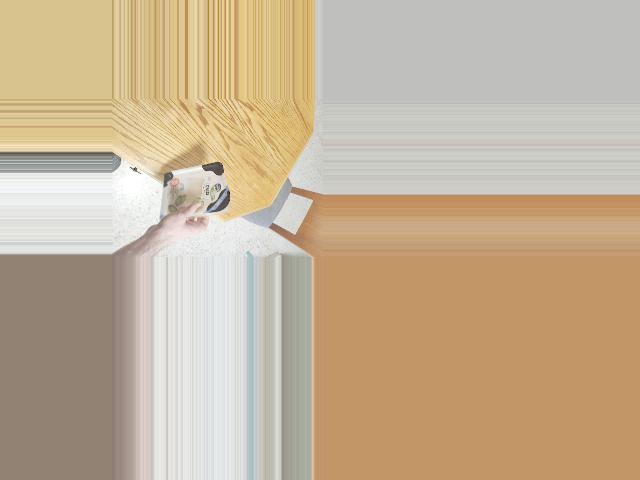cheese: (151, 167, 234, 217)
